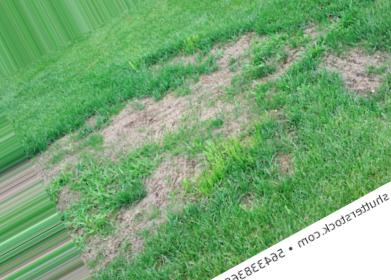patch: (144, 96, 209, 133), (103, 113, 150, 149), (159, 159, 184, 202), (195, 72, 235, 98), (223, 44, 238, 68)
